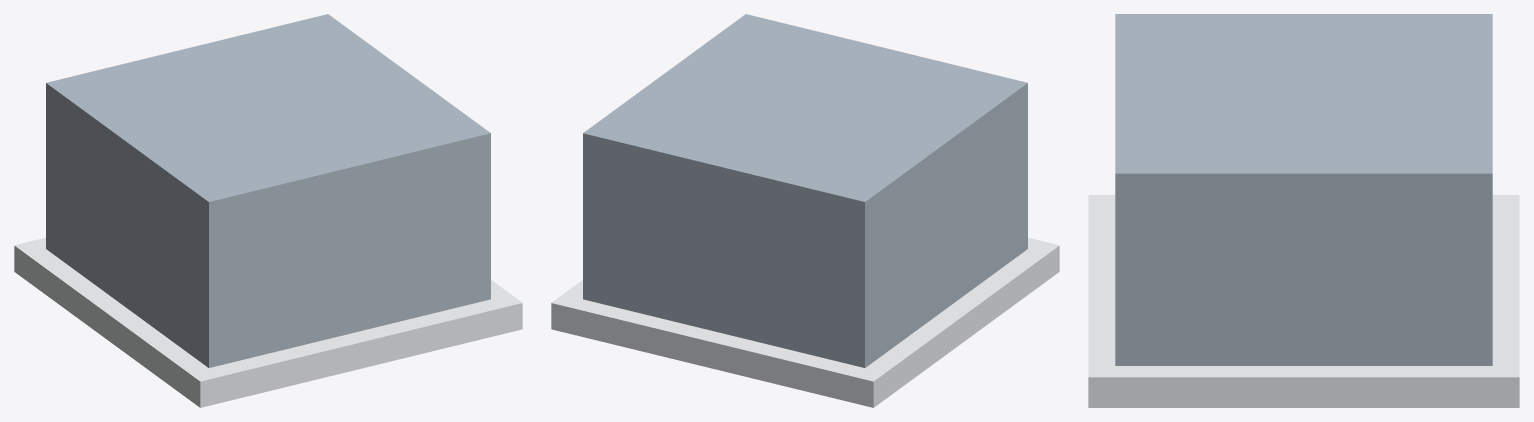
File: equip-bath-exhaust-fan.glb
The picture shows the model from 3 angles, left to right: view 1: azimuth 30°, elevation 25°; view 2: azimuth 150°, elevation 25°; view 3: azimuth 270°, elevation 25°; orthographic projection. The views are drawn at different scales.
Parts seen in each view (by area): view 1: hvac-equipment-bath-exhaust-fan; view 2: hvac-equipment-bath-exhaust-fan; view 3: hvac-equipment-bath-exhaust-fan.
Part boxes in pixels (x1=…): hvac-equipment-bath-exhaust-fan: x1=14, y1=14, x2=522, y2=407; hvac-equipment-bath-exhaust-fan: x1=551, y1=14, x2=1059, y2=407; hvac-equipment-bath-exhaust-fan: x1=1088, y1=14, x2=1519, y2=407.
Bounding box in the file's own units: 0.32 × 0.1825 × 0.32.
